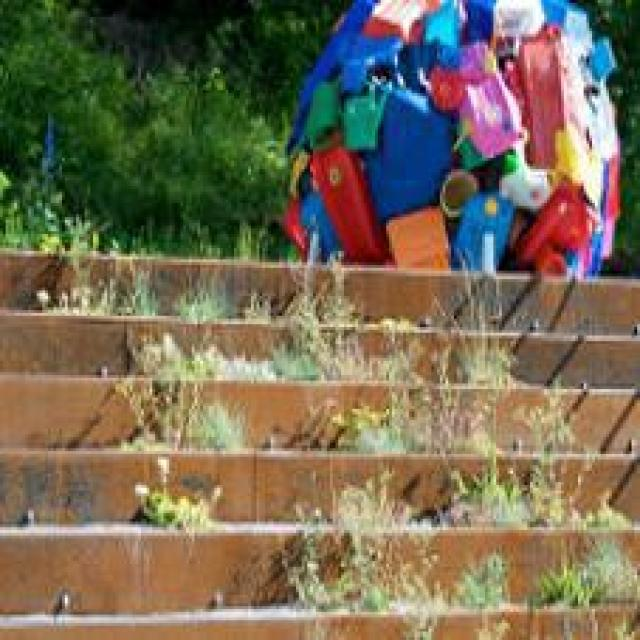upstair: (24, 235, 610, 596)
